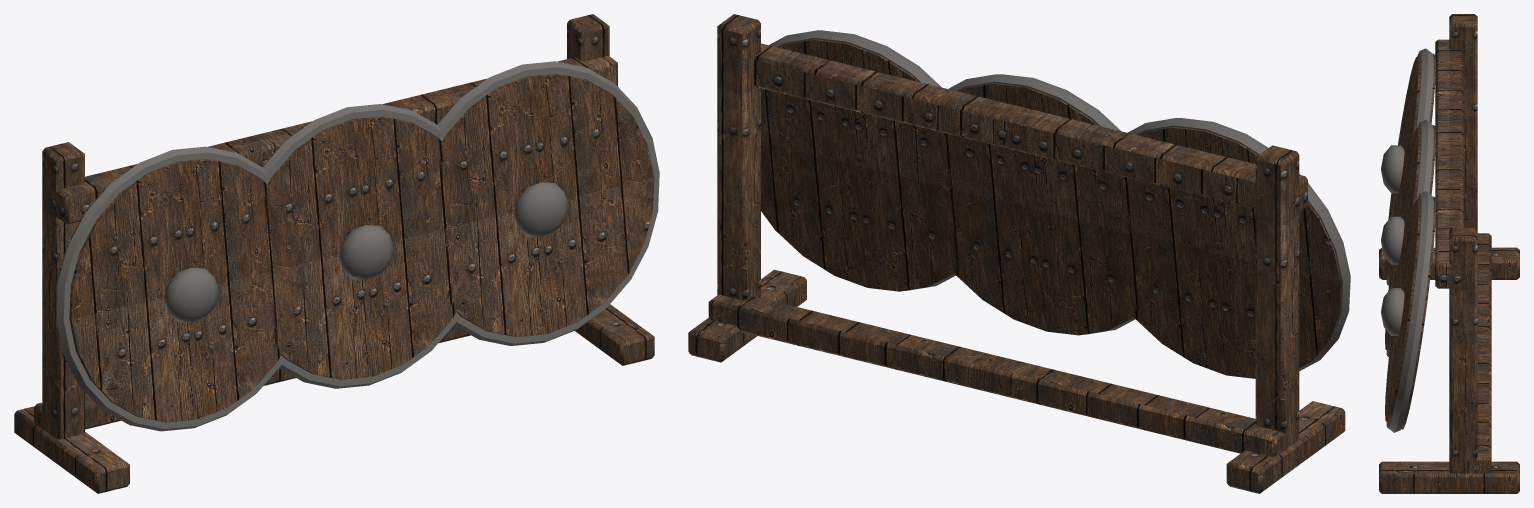
File: shield-stand-v01.glb
3 views of the same model, side by side, from view 1: azimuth 30°, elevation 25°; view 2: azimuth 150°, elevation 25°; view 3: azimuth 270°, elevation 25° (orthographic). The views are drawn at different scales.
Visible parts, largest first — view 1: shield-stand; view 2: shield-stand; view 3: shield-stand.
Boxes of the visible parts, x1=… form: shield-stand: x1=14, y1=14, x2=659, y2=493; shield-stand: x1=688, y1=14, x2=1350, y2=493; shield-stand: x1=1379, y1=14, x2=1519, y2=493.
Size of the model in its own units: 2.07 by 1 by 0.5.
Materials: 2 (1 with a texture image).
